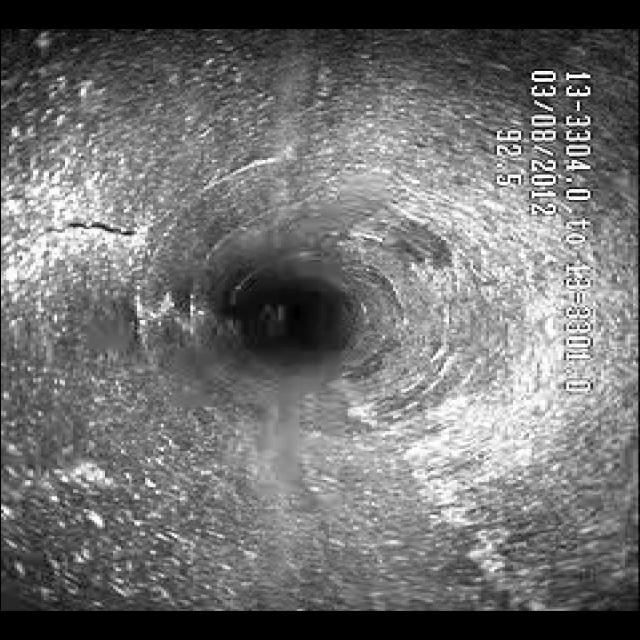Crack: (30, 204, 164, 260)
